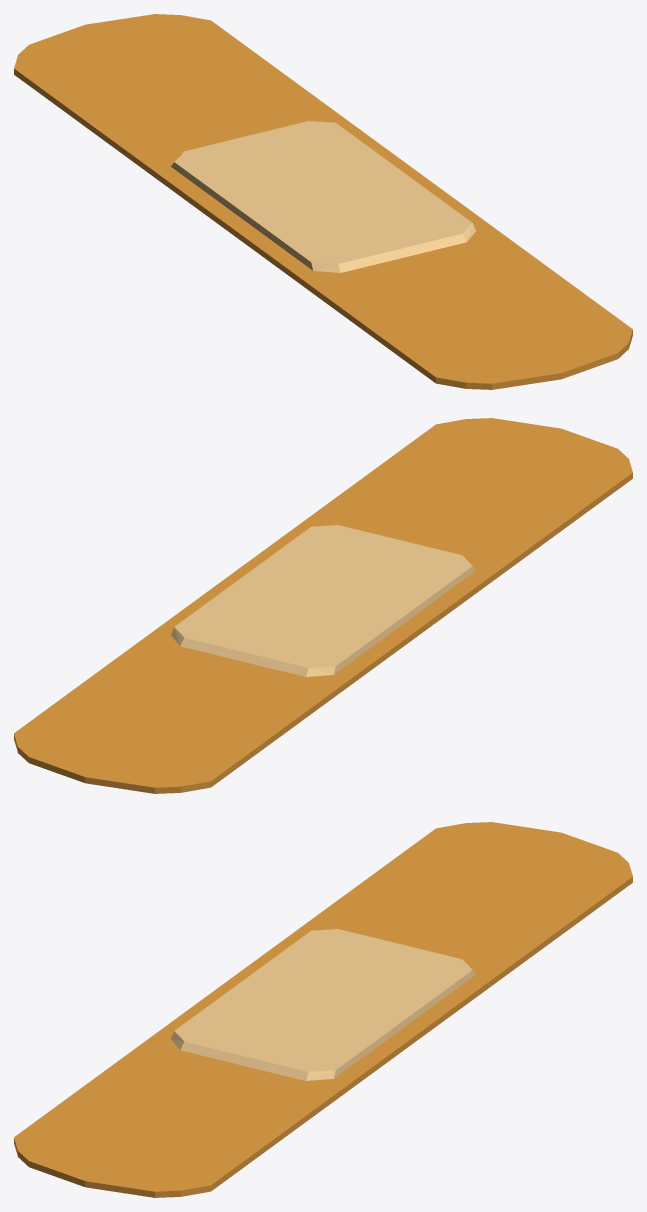
Rendered from bandage.glb.
3 views of the same model, one above another, from view 1: azimuth 30°, elevation 25°; view 2: azimuth 150°, elevation 25°; view 3: azimuth 330°, elevation 25° (orthographic).
Parts seen in each view (by area): view 1: Node; view 2: Node; view 3: Node.
Part boxes in pixels (left/top/right/bottom): Node: left=14, top=14, right=632, bottom=389; Node: left=14, top=418, right=632, bottom=793; Node: left=14, top=822, right=632, bottom=1197.
Size of the model in its own units: 0.5661 by 0.0445 by 2.37.
